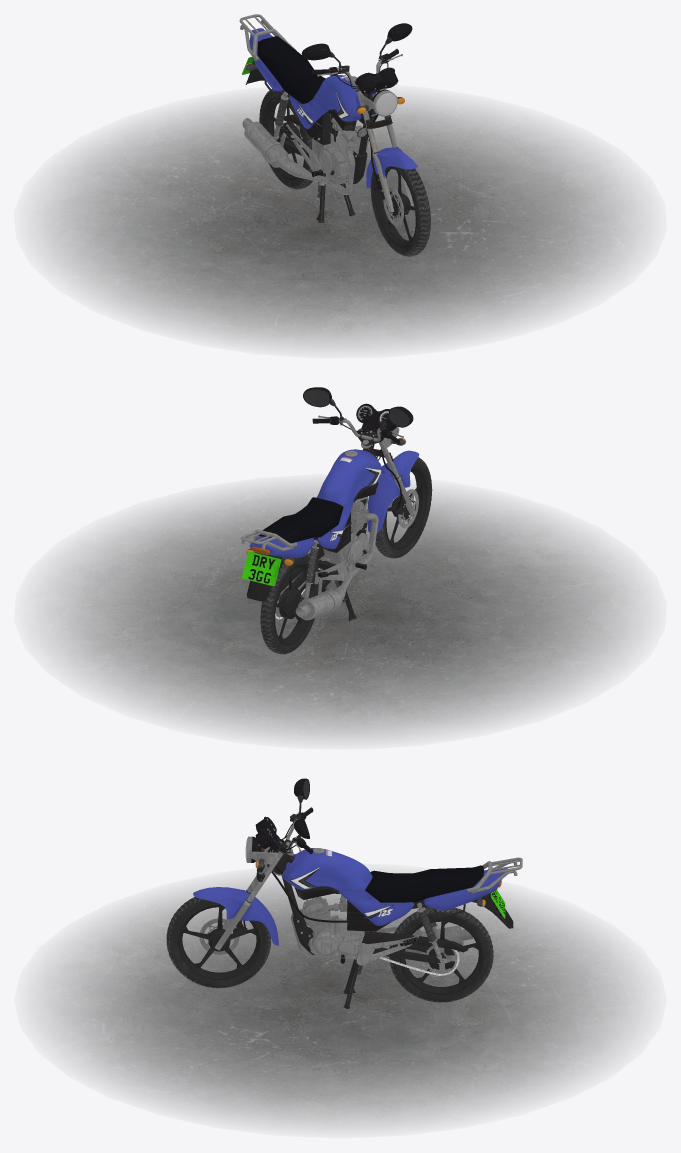
File: boda.glb
3 views of the same model, one above another, from view 1: azimuth 30°, elevation 25°; view 2: azimuth 150°, elevation 25°; view 3: azimuth 270°, elevation 25° (orthographic).
Visible parts, largest first — view 1: Circle.001, Cube, Cylinder.061, Cylinder.022, Plane.001, Cylinder.063, Cylinder, Plane.002, Cylinder.007, Cube.012, Cylinder.002, Plane.061 (+4 smaller); view 2: Circle.001, Plane.001, Cube, Cylinder.061, Cylinder.063, Plane.002, Cylinder.022, Plane.056, Cube.012, Plane.013, Plane.006, Cylinder.002 (+3 smaller); view 3: Circle.001, Cylinder.063, Cylinder.061, Cube, Plane.001, Plane.002, Cylinder.007, Plane.006, Plane.013, Cylinder, Plane.011, Plane.010 (+7 smaller).
Part boxes in pixels (box(x1,y1,x2,y2)): Circle.001: box(31, 92, 649, 351); Cube: box(257, 36, 325, 104); Cylinder.061: box(370, 166, 430, 256); Cylinder.022: box(242, 118, 355, 194); Plane.001: box(314, 75, 375, 121); Cylinder.063: box(259, 89, 312, 189); Cylinder: box(356, 89, 413, 212); Plane.002: box(366, 147, 417, 188); Cylinder.007: box(319, 136, 368, 184); Cube.012: box(301, 23, 412, 60); Cylinder.002: box(355, 67, 398, 93); Plane.061: box(370, 168, 430, 256); Circle.001: box(31, 481, 649, 742); Plane.001: box(316, 449, 381, 506); Cube: box(258, 497, 343, 543); Cylinder.061: box(375, 457, 431, 558); Cylinder.063: box(260, 554, 319, 654); Plane.002: box(367, 450, 419, 532); Cylinder.022: box(295, 512, 378, 620); Plane.056: box(242, 551, 281, 586); Cube.012: box(303, 387, 413, 427); Plane.013: box(249, 536, 314, 557); Plane.006: box(318, 500, 353, 548); Cylinder.002: box(356, 403, 396, 429); Circle.001: box(32, 871, 648, 1130); Cylinder.063: box(389, 907, 493, 1002); Cylinder.061: box(166, 897, 270, 987); Cube: box(365, 865, 483, 902); Plane.001: box(282, 848, 372, 891); Plane.002: box(193, 887, 278, 945); Cylinder.007: box(310, 917, 364, 961); Plane.006: box(338, 889, 413, 925); Plane.013: box(424, 868, 507, 910); Cylinder: box(214, 839, 284, 950); Plane.011: box(362, 931, 468, 952); Plane.010: box(356, 926, 418, 965).
Size of the model in its own units: 29406 by 9974 by 29406.
Materials: 2 (2 with a texture image).
